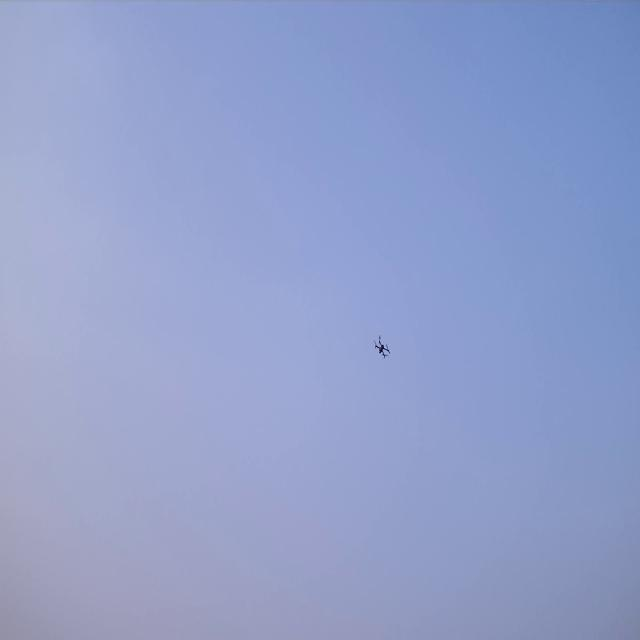UAV: (373, 332, 391, 361)
